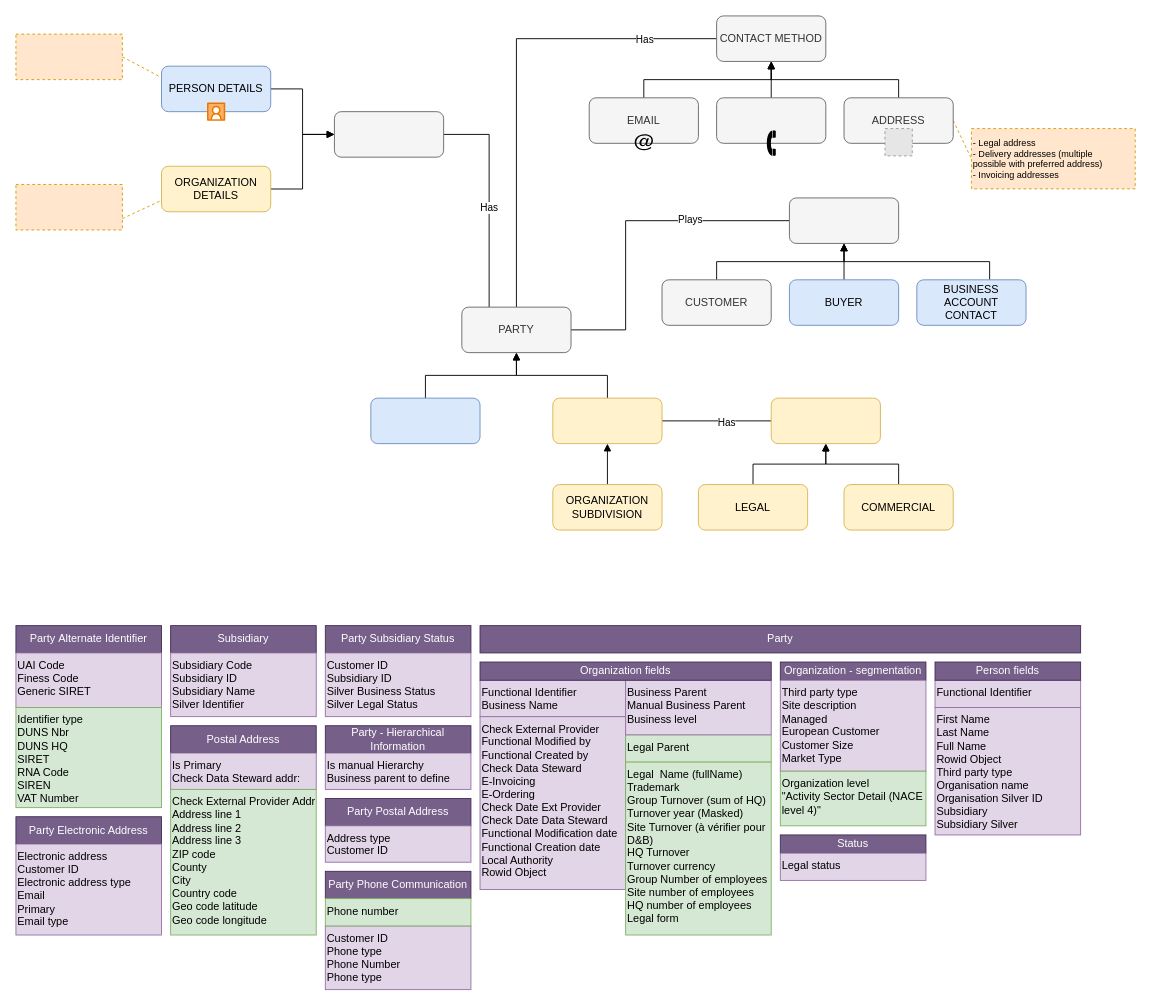
Some shapes in this 1151 by 1006 pixel diagram are drawn without their labels. Grey dashed boxes stand in for pictures. The centre of each missing label's shape, as x and y in pixels:
- First Name - Last Name - ….: [68,56]
- N° of employees - Turnover - ….: [68,207]
ORGANIZATION: [607,420]
ORGANIZATION STRUCTURE: [825,420]
PARTY DETAILS: [389,134]
PARTY ROLE: [844,220]
PERSON: [425,420]
PHONE: [771,120]
